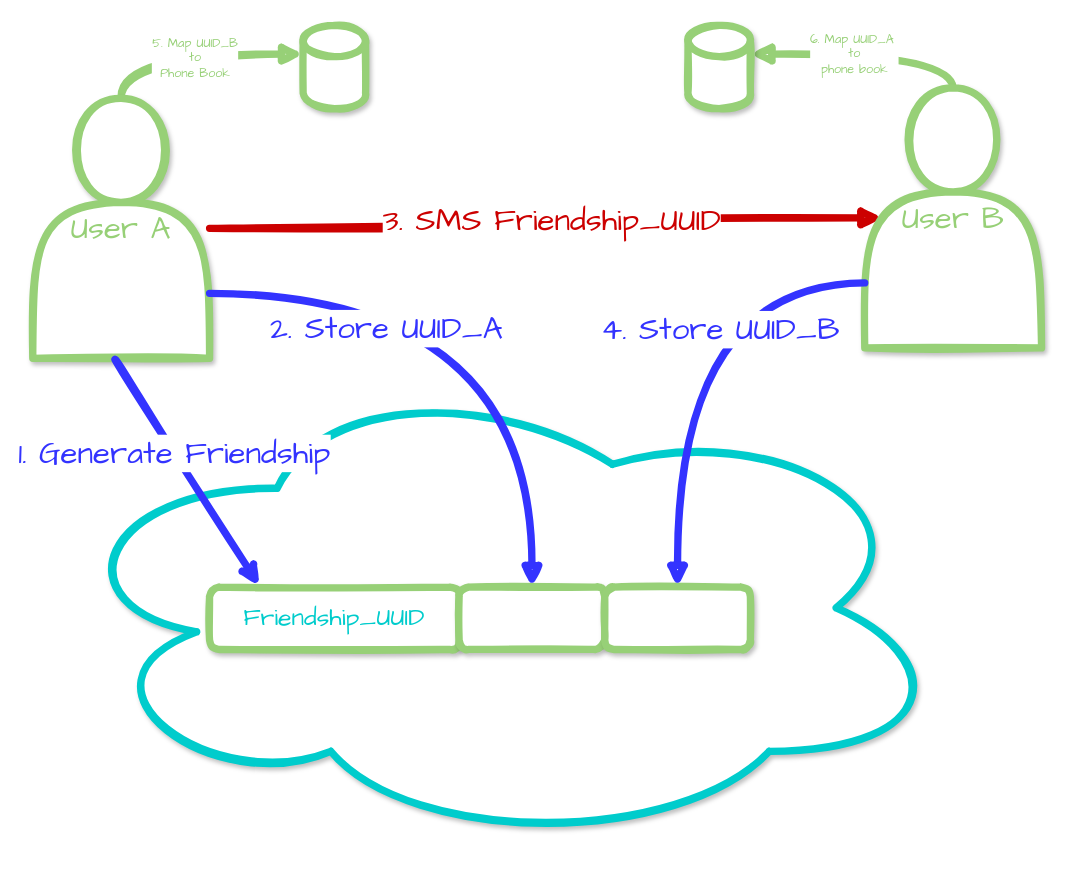
This 1069x876 diagram has some shape labels left out. The shapes that lost their labels are listed below. From the top down, each one's centre as x and y in pixels, then its label:
At (532,619): "UUID_A".
At (678,619): "UUID_B".
